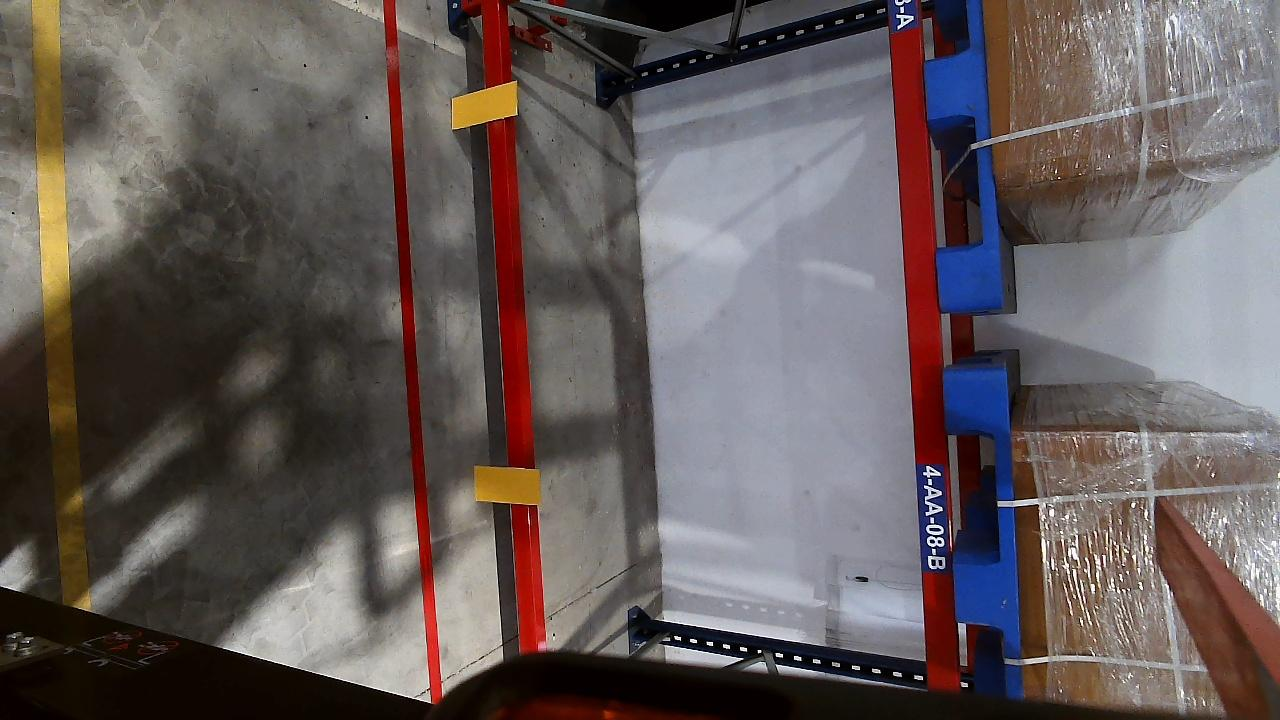h_rack: (478, 1, 551, 654), (891, 1, 953, 684)
orange_strip: (451, 82, 519, 129), (472, 466, 539, 505)
red_line: (374, 0, 453, 683)
small_pallet: (944, 375, 1026, 690), (916, 2, 997, 307)
yellow_line: (23, 0, 94, 607)
